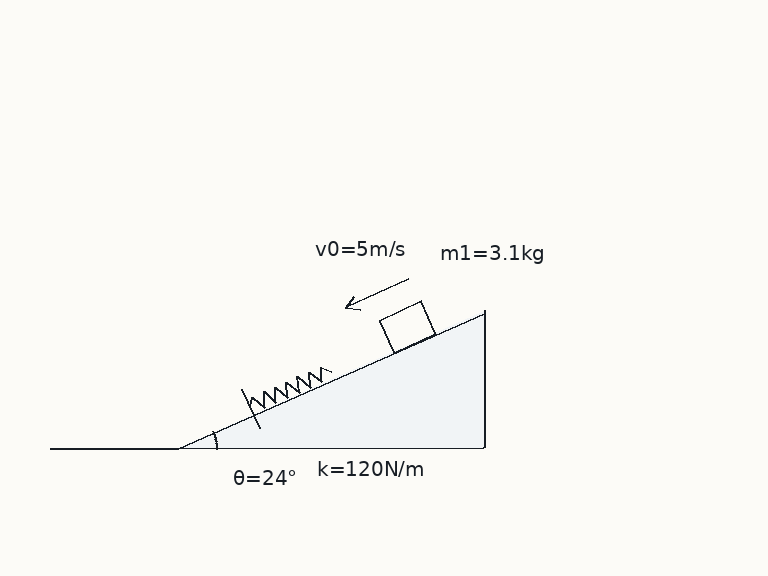block: (377, 300, 437, 354)
ramp: (175, 310, 485, 450)
spring: (248, 364, 331, 409)
